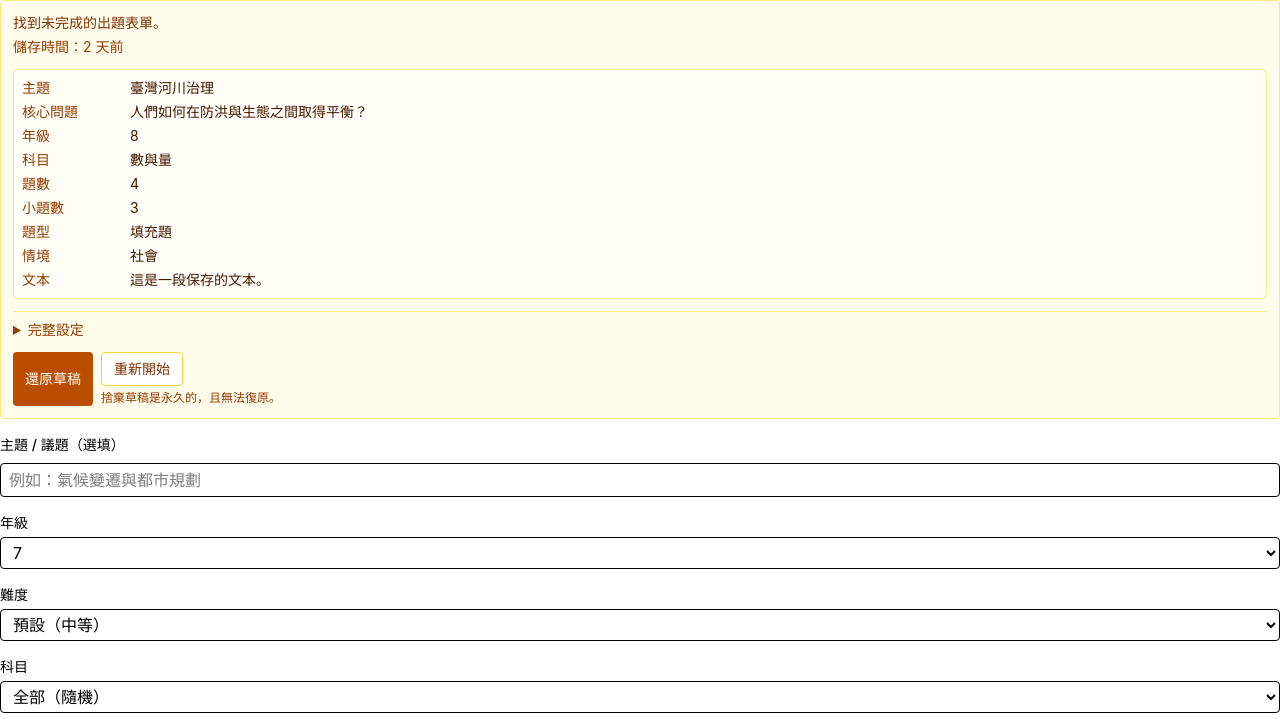
Test case: ParamForm draft summary › keeps every remaining saved setting in a collapsed expander until opened
Click the heading "完整設定": (56, 330) [28, 321, 84, 338]
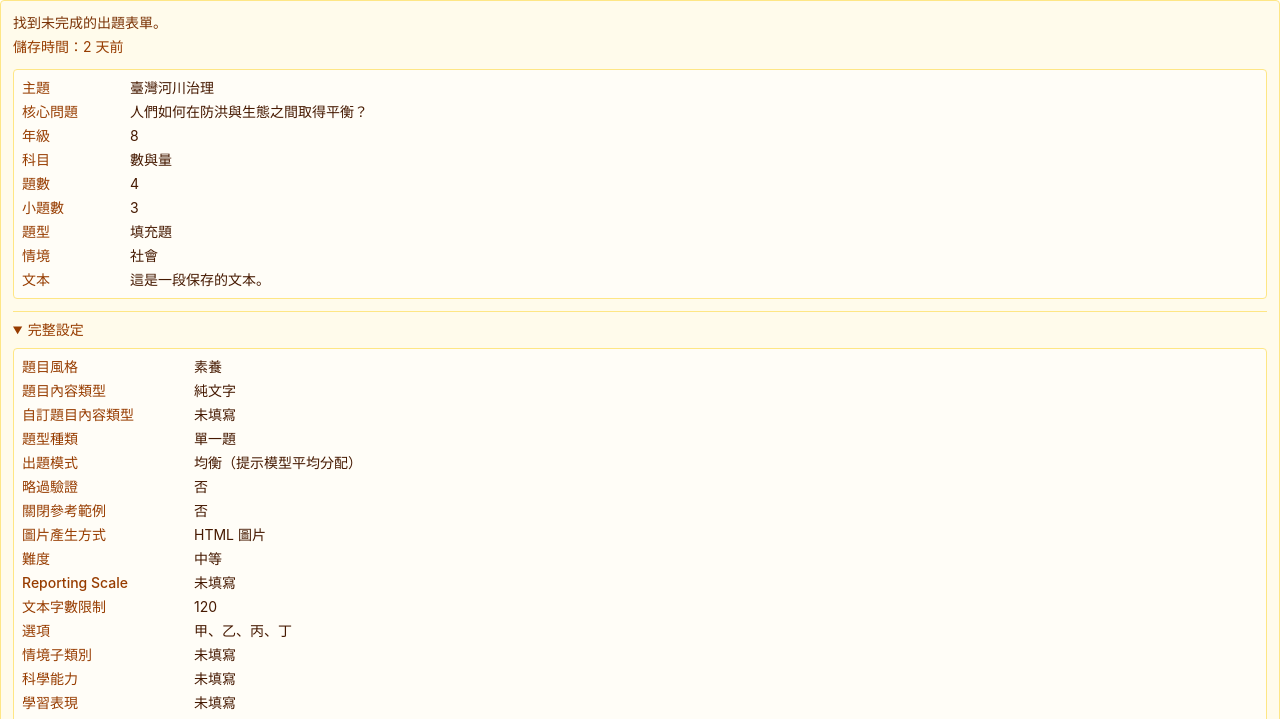
expect the text "完整設定" shows "素養": met, box [194, 358, 222, 375]
expect the text "完整設定" shows "純文字": met, box [194, 382, 236, 399]
expect the text "完整設定" shows "單一題": met, box [194, 430, 236, 447]
